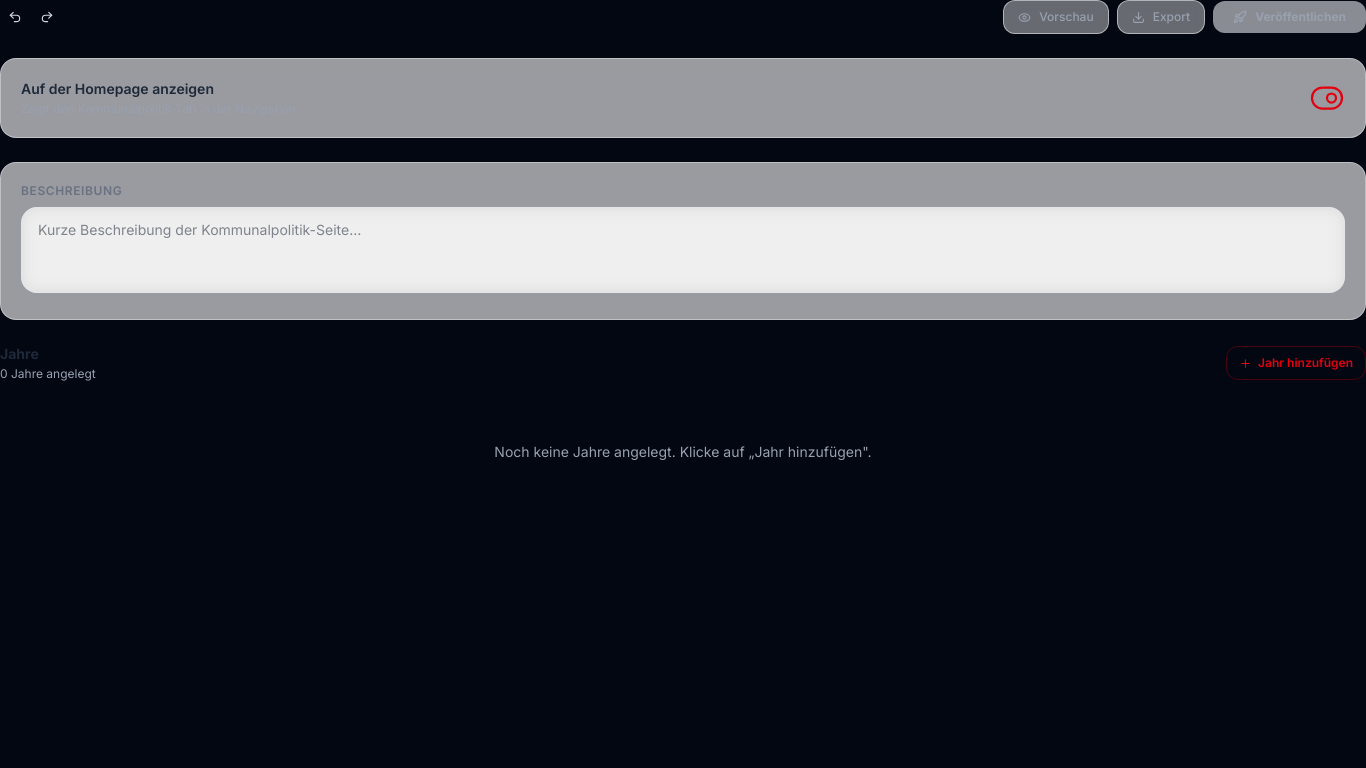
Test: KommunalpolitikEditor — expanded year sections › can add a new Jahr
Click the button "Jahr hinzufügen": click(1296, 363) x1=1226 y1=346 x2=1365 y2=380
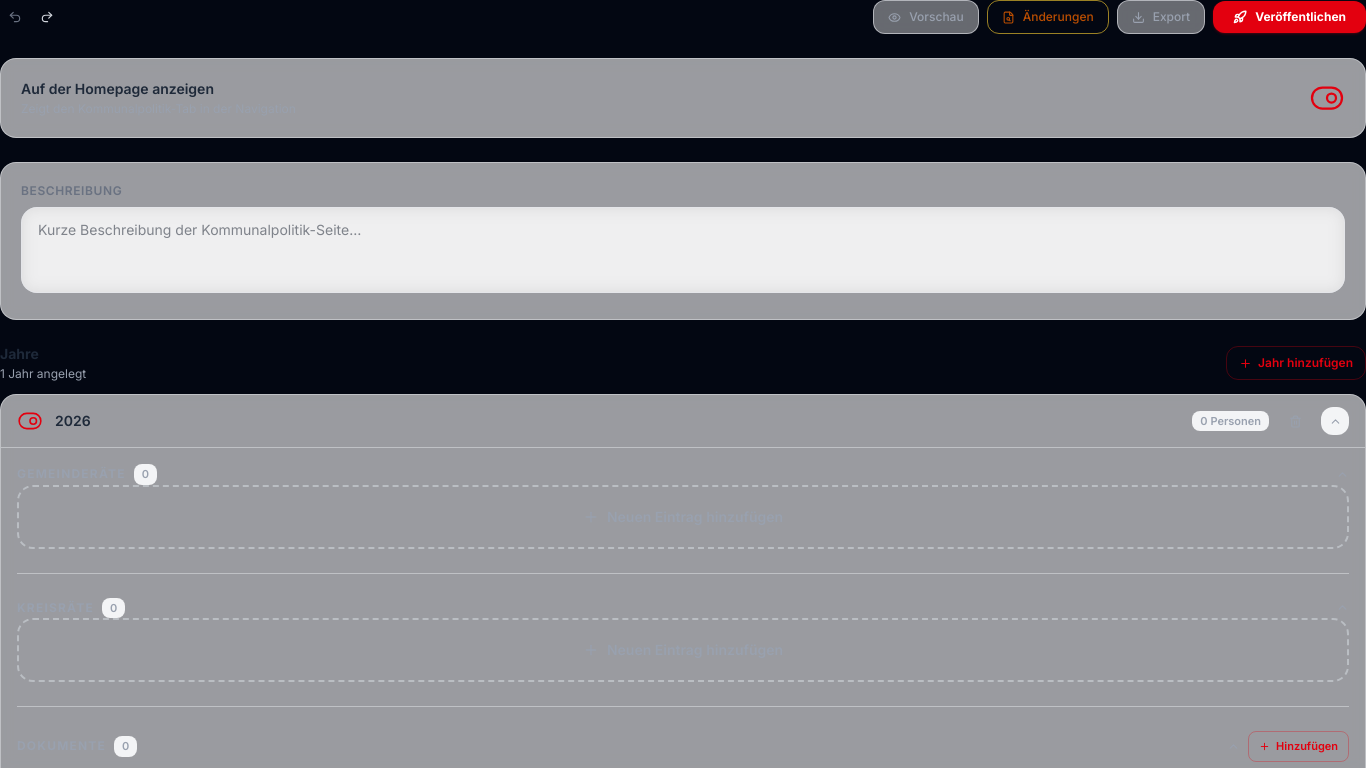
Now the text "Personen" is shown, box x1=1210 y1=414 x2=1261 y2=428
